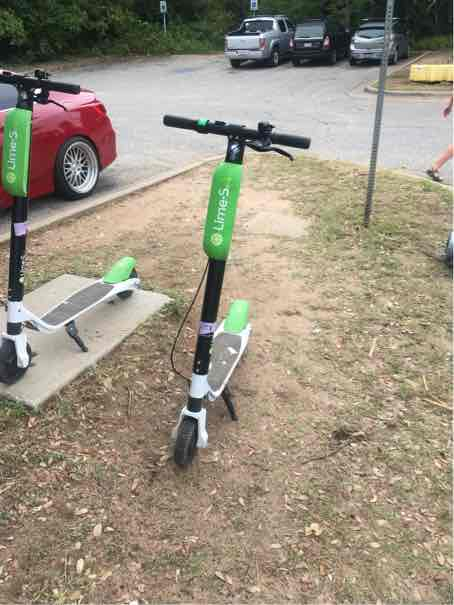scooter: (149, 106, 326, 480), (0, 61, 142, 384)
